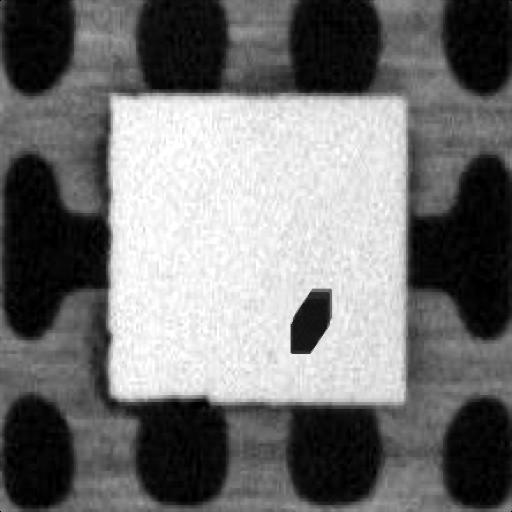DIE_INK: (419, 184, 498, 240)
